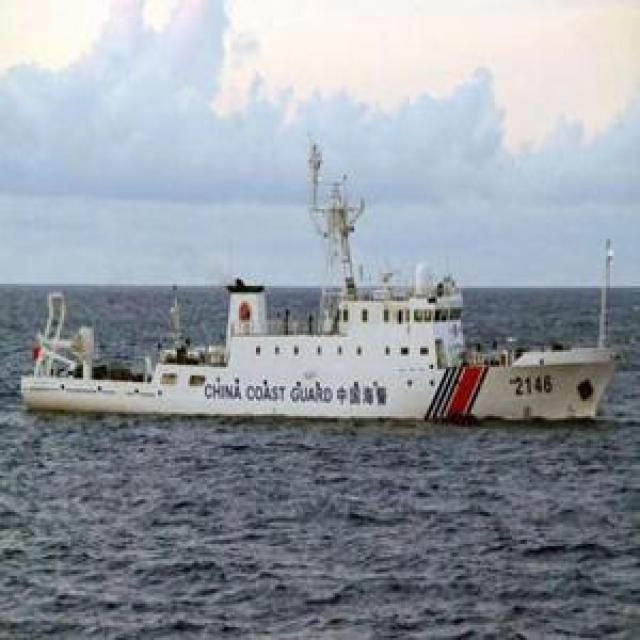navalvessels: (20, 155, 614, 428)
